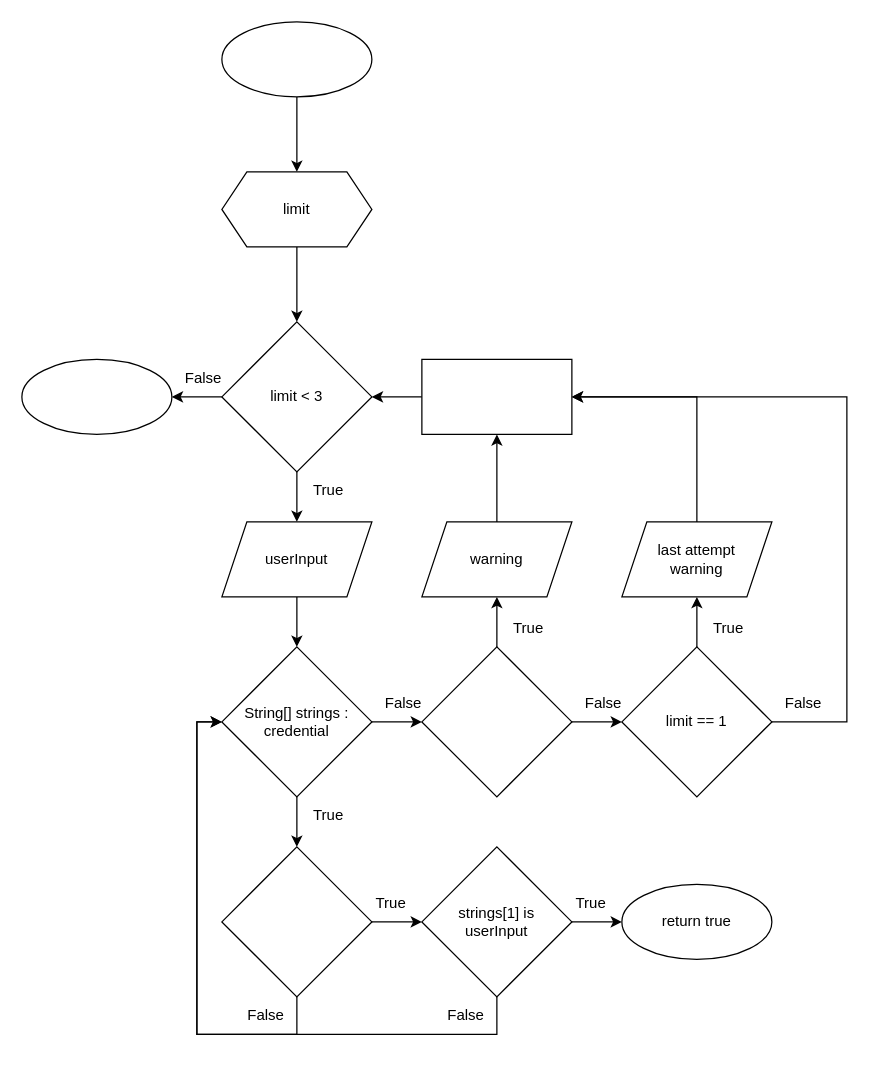
This 879x1066 diagram has some shape labels left out. Here are the shapes that lost their labels. From the top down, the box of each, then its label:
(221, 21, 372, 97): passwordCheck()
(21, 358, 172, 434): return false
(421, 358, 572, 434): limit++
(421, 646, 572, 797): limit < 1
(221, 846, 372, 997): strings[0] is username
